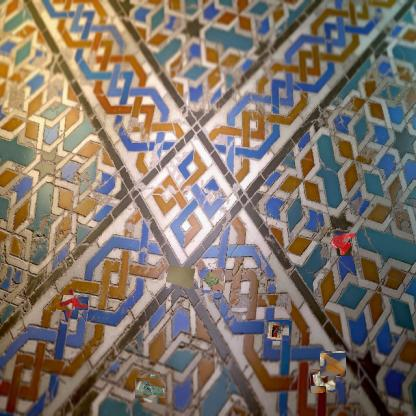dirty: (166, 263, 198, 289), (137, 376, 163, 402), (310, 369, 336, 393), (60, 290, 84, 314), (265, 319, 289, 341), (201, 269, 223, 291)
liquid: (330, 232, 356, 256), (321, 352, 345, 376)
